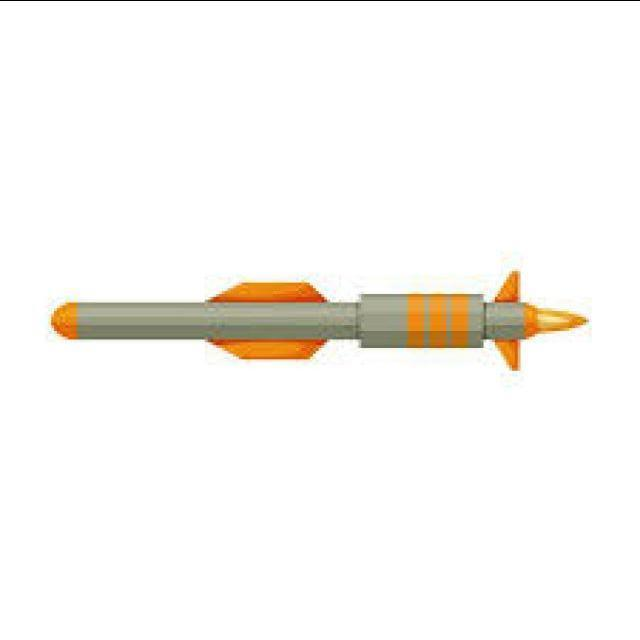Missile: (20, 283, 596, 353)
